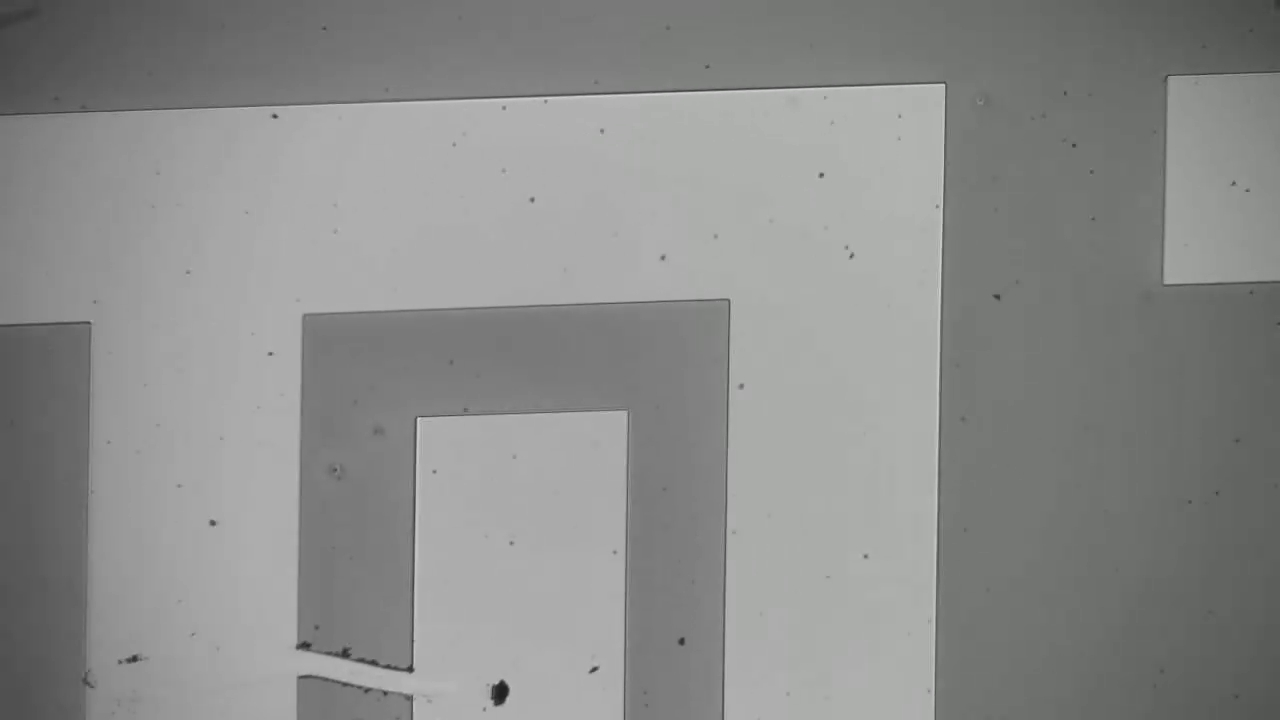Short_circuit: (272, 618, 446, 711)
